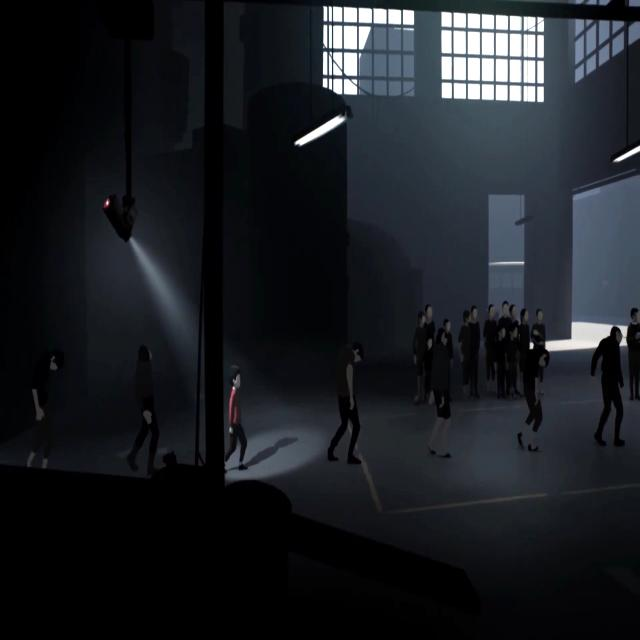boy: (227, 365, 248, 472)
human: (625, 306, 640, 404), (482, 304, 497, 397), (412, 313, 426, 404), (519, 309, 532, 396), (458, 310, 469, 401), (470, 306, 480, 398), (498, 326, 508, 399), (509, 325, 518, 399), (532, 307, 545, 348), (426, 303, 436, 336), (500, 301, 510, 327), (441, 317, 453, 336), (510, 303, 519, 324)
zombie: (326, 340, 362, 464), (28, 349, 61, 471), (591, 332, 626, 446), (130, 344, 158, 476), (426, 336, 453, 458), (518, 347, 548, 452)
